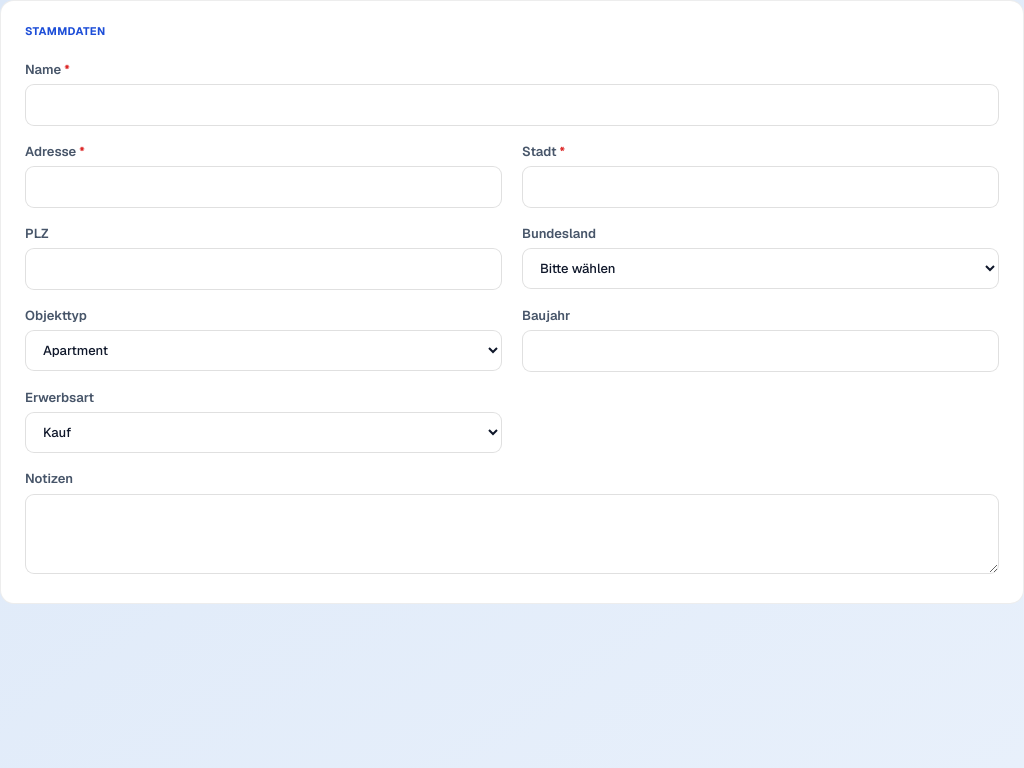
Scenario: StepStammdaten Bundesland from PLZ › sets the Bundesland for a unique PLZ and says so
Type "01099" into the field labelled "PLZ" at (264,269), box [25, 248, 502, 290]
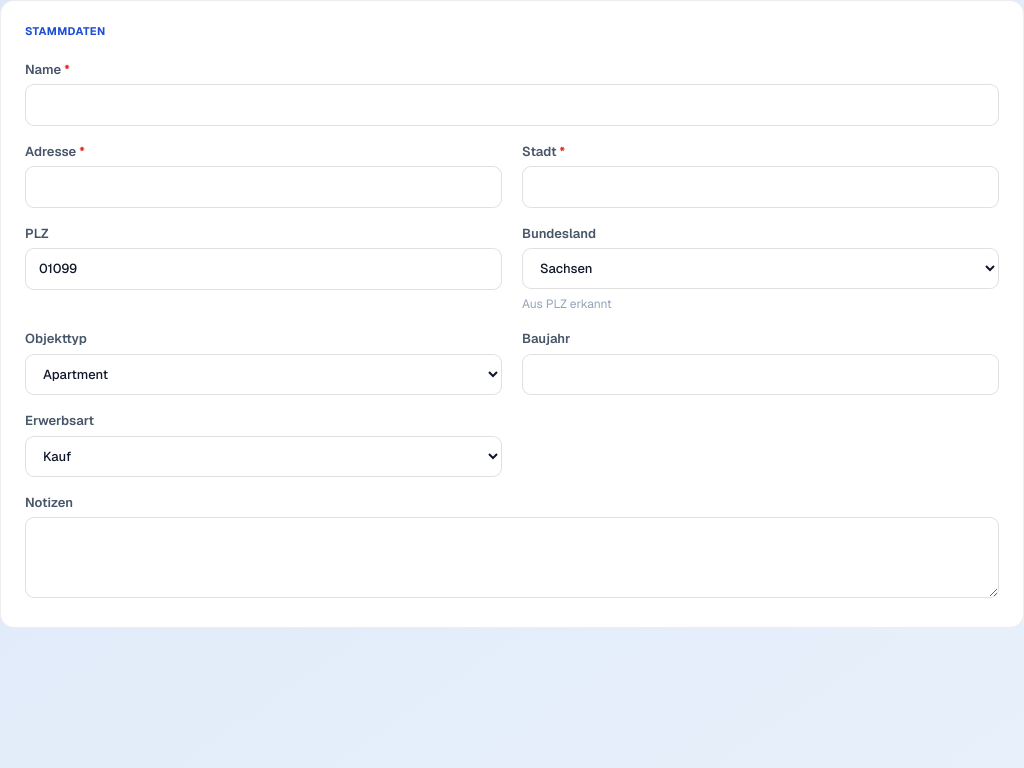
Result: the text "Aus PLZ erkannt" is shown at [522, 296, 612, 312]
Result: the dropdown labelled "Bundesland" shows "Sachsen" at [522, 248, 999, 289]
